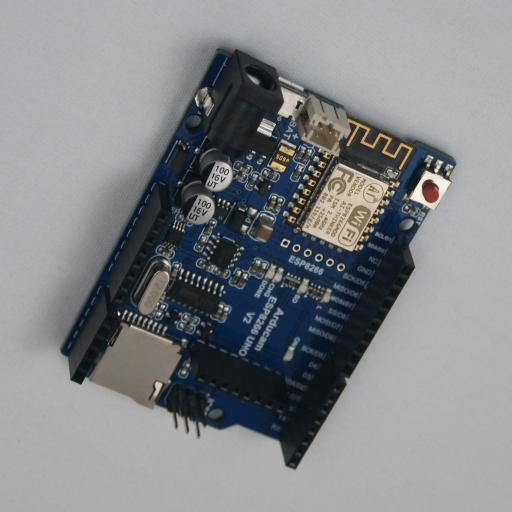Arduino Uno Camera Shield: (60, 46, 456, 469)
